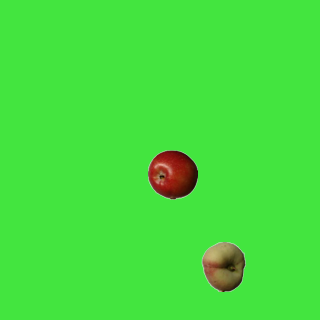Apple Braeburn: (147, 149, 197, 199)
Peach Flat: (198, 241, 248, 291)
